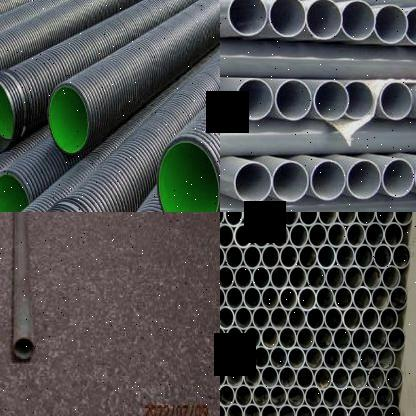pipe: (156, 137, 220, 212), (48, 83, 89, 155), (236, 78, 274, 121), (234, 162, 272, 204), (274, 80, 312, 121), (272, 162, 309, 202), (227, 0, 267, 36), (310, 160, 346, 200), (306, 0, 342, 39), (313, 81, 349, 120), (269, 0, 306, 37), (341, 0, 375, 40), (347, 160, 381, 200), (375, 4, 408, 44), (380, 81, 413, 120), (382, 158, 414, 198), (0, 171, 28, 212), (345, 80, 373, 120), (0, 78, 14, 153), (327, 222, 347, 248), (308, 222, 328, 248), (354, 243, 374, 269), (352, 285, 372, 311), (384, 221, 403, 248), (342, 306, 362, 331), (365, 222, 384, 248), (346, 222, 365, 248), (252, 223, 271, 249), (373, 243, 392, 269), (317, 244, 336, 270), (298, 244, 317, 270), (307, 264, 326, 290), (344, 264, 363, 290), (288, 264, 307, 290), (335, 244, 355, 268), (340, 346, 360, 370), (271, 223, 290, 248), (270, 265, 289, 290), (324, 306, 343, 331), (379, 306, 398, 331), (361, 306, 380, 331), (290, 222, 308, 248), (262, 244, 280, 270), (244, 244, 262, 270), (363, 264, 381, 290), (352, 326, 370, 352), (14, 338, 35, 360), (334, 286, 353, 310), (278, 326, 297, 350), (296, 326, 315, 350), (367, 366, 386, 390), (234, 223, 252, 248), (280, 244, 298, 269), (225, 245, 243, 270), (382, 264, 400, 289), (326, 265, 344, 290), (234, 265, 252, 290), (252, 265, 270, 290), (226, 285, 244, 310), (298, 286, 316, 311), (314, 326, 332, 351), (333, 326, 351, 351), (370, 326, 388, 351), (388, 326, 406, 351), (377, 346, 395, 371), (359, 346, 377, 371), (392, 244, 410, 268), (243, 286, 261, 310), (261, 286, 279, 310), (316, 286, 334, 310), (389, 286, 407, 310), (372, 286, 390, 310), (280, 286, 298, 310), (234, 306, 252, 330), (252, 306, 270, 330), (270, 306, 288, 330), (288, 306, 306, 330), (306, 306, 324, 330), (226, 325, 244, 349), (243, 326, 261, 350), (261, 326, 279, 350), (234, 345, 252, 369), (252, 345, 270, 369), (270, 346, 288, 370), (288, 346, 306, 370), (305, 346, 323, 370), (323, 346, 341, 370), (226, 364, 244, 388), (243, 364, 261, 388), (260, 364, 278, 388), (278, 365, 296, 389), (296, 366, 314, 390), (314, 366, 332, 390), (332, 366, 350, 390), (350, 366, 368, 390), (385, 368, 403, 392), (234, 384, 252, 408), (252, 384, 270, 408), (270, 384, 288, 408), (287, 384, 305, 408), (322, 385, 340, 409), (375, 385, 393, 409), (340, 386, 358, 410), (358, 386, 376, 410), (304, 386, 323, 408), (406, 7, 416, 46), (220, 222, 234, 248), (220, 264, 234, 289), (220, 305, 234, 329), (220, 345, 234, 368), (220, 383, 234, 406), (224, 212, 243, 227), (243, 212, 262, 227), (279, 212, 299, 226), (318, 212, 337, 226), (299, 212, 318, 226), (261, 212, 280, 226), (375, 212, 394, 225), (356, 212, 375, 225), (337, 212, 356, 225), (226, 402, 243, 416), (243, 402, 260, 416), (394, 212, 412, 225), (260, 403, 278, 416), (295, 403, 313, 416), (278, 403, 295, 416), (313, 404, 331, 416), (330, 404, 348, 416), (366, 404, 384, 416), (348, 404, 366, 416), (383, 404, 400, 416), (220, 325, 226, 349), (220, 364, 226, 387), (220, 244, 225, 269), (220, 285, 225, 309), (220, 402, 226, 416)
